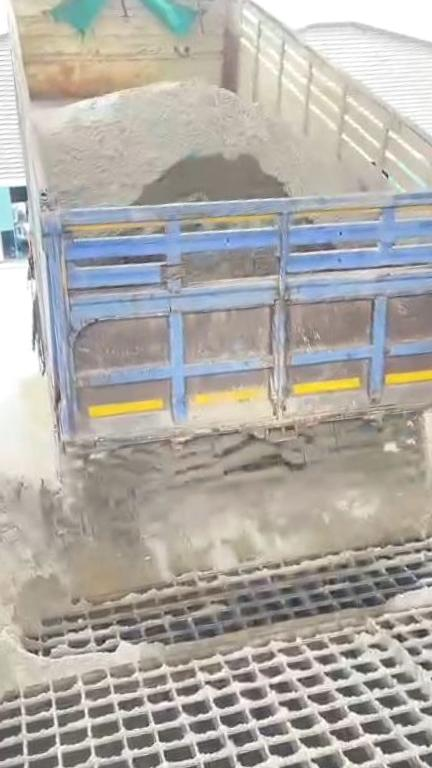sand: (0, 376, 432, 699), (34, 83, 375, 207), (383, 567, 432, 611)
